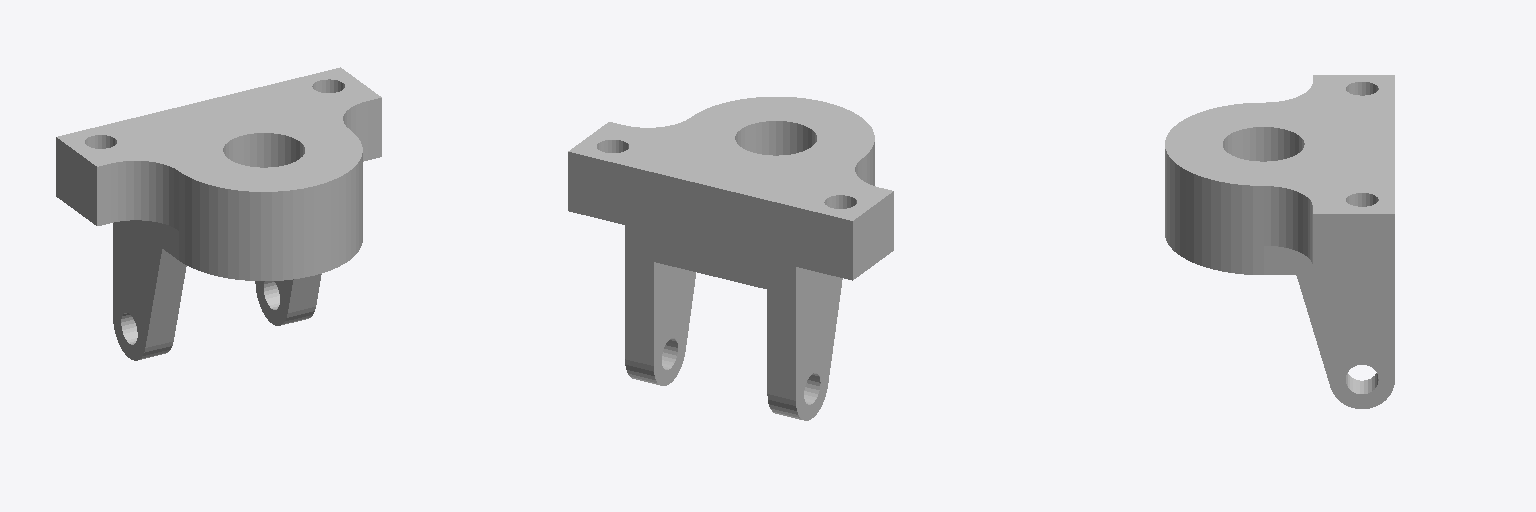
The model's file is Articulation Fourche.obj.
3 views of the same model, side by side, from view 1: azimuth 30°, elevation 25°; view 2: azimuth 150°, elevation 25°; view 3: azimuth 270°, elevation 25° (orthographic).
Parts seen in each view (by area): view 1: Articulation_Fourche; view 2: Articulation_Fourche; view 3: Articulation_Fourche.
Part boxes in pixels (x1,y1,x2,y2): Articulation_Fourche: (56, 67, 381, 360); Articulation_Fourche: (568, 97, 893, 420); Articulation_Fourche: (1165, 75, 1394, 408).
Bounding box in the file's own units: 0.1 × 0.075 × 0.07.